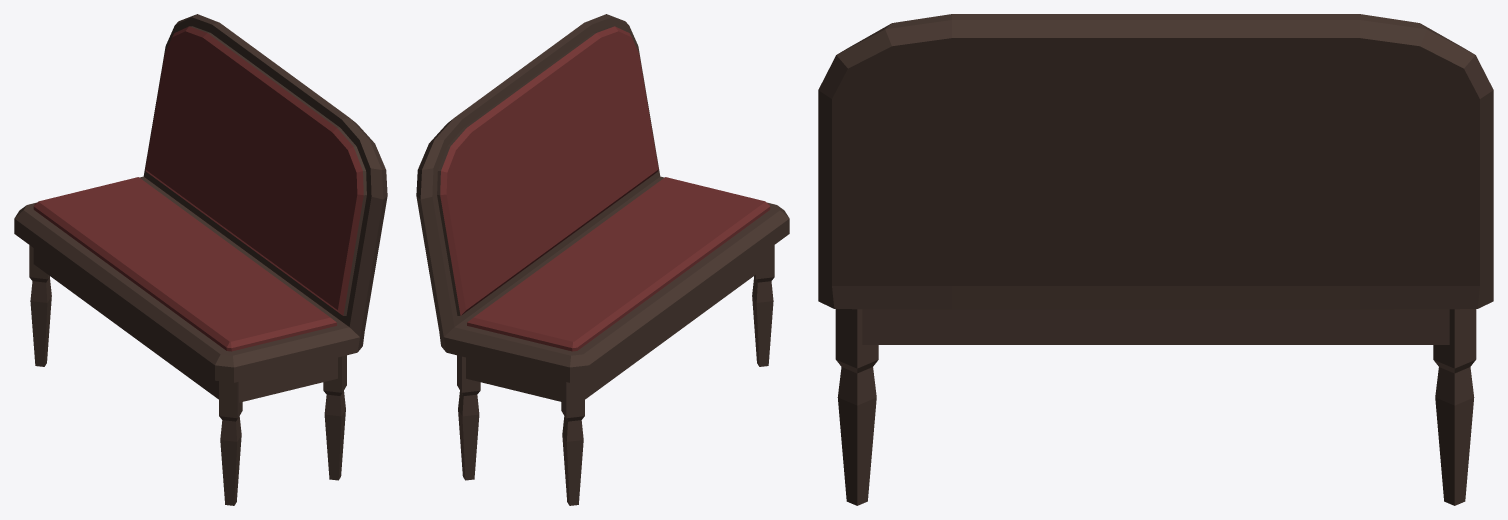
Rendered from LPHorror_WideChair.fbx.
3 renders of one model, left to right at view 1: azimuth 30°, elevation 25°; view 2: azimuth 150°, elevation 25°; view 3: azimuth 270°, elevation 25°, orthographic. The views are drawn at different scales.
Visible parts, largest first — view 1: WideChair; view 2: WideChair; view 3: WideChair.
Part boxes in pixels (left/top/right/bottom): WideChair: left=14, top=14, right=387, bottom=505; WideChair: left=416, top=14, right=789, bottom=505; WideChair: left=818, top=14, right=1493, bottom=505.
Size of the model in its own units: 78.79 by 139 by 165.
